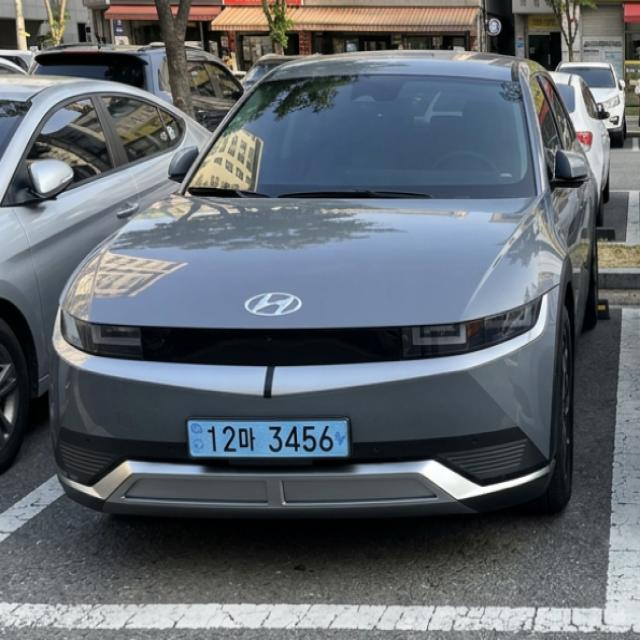car: (162, 413, 384, 481)
carev: (184, 419, 207, 464), (331, 418, 349, 468)
